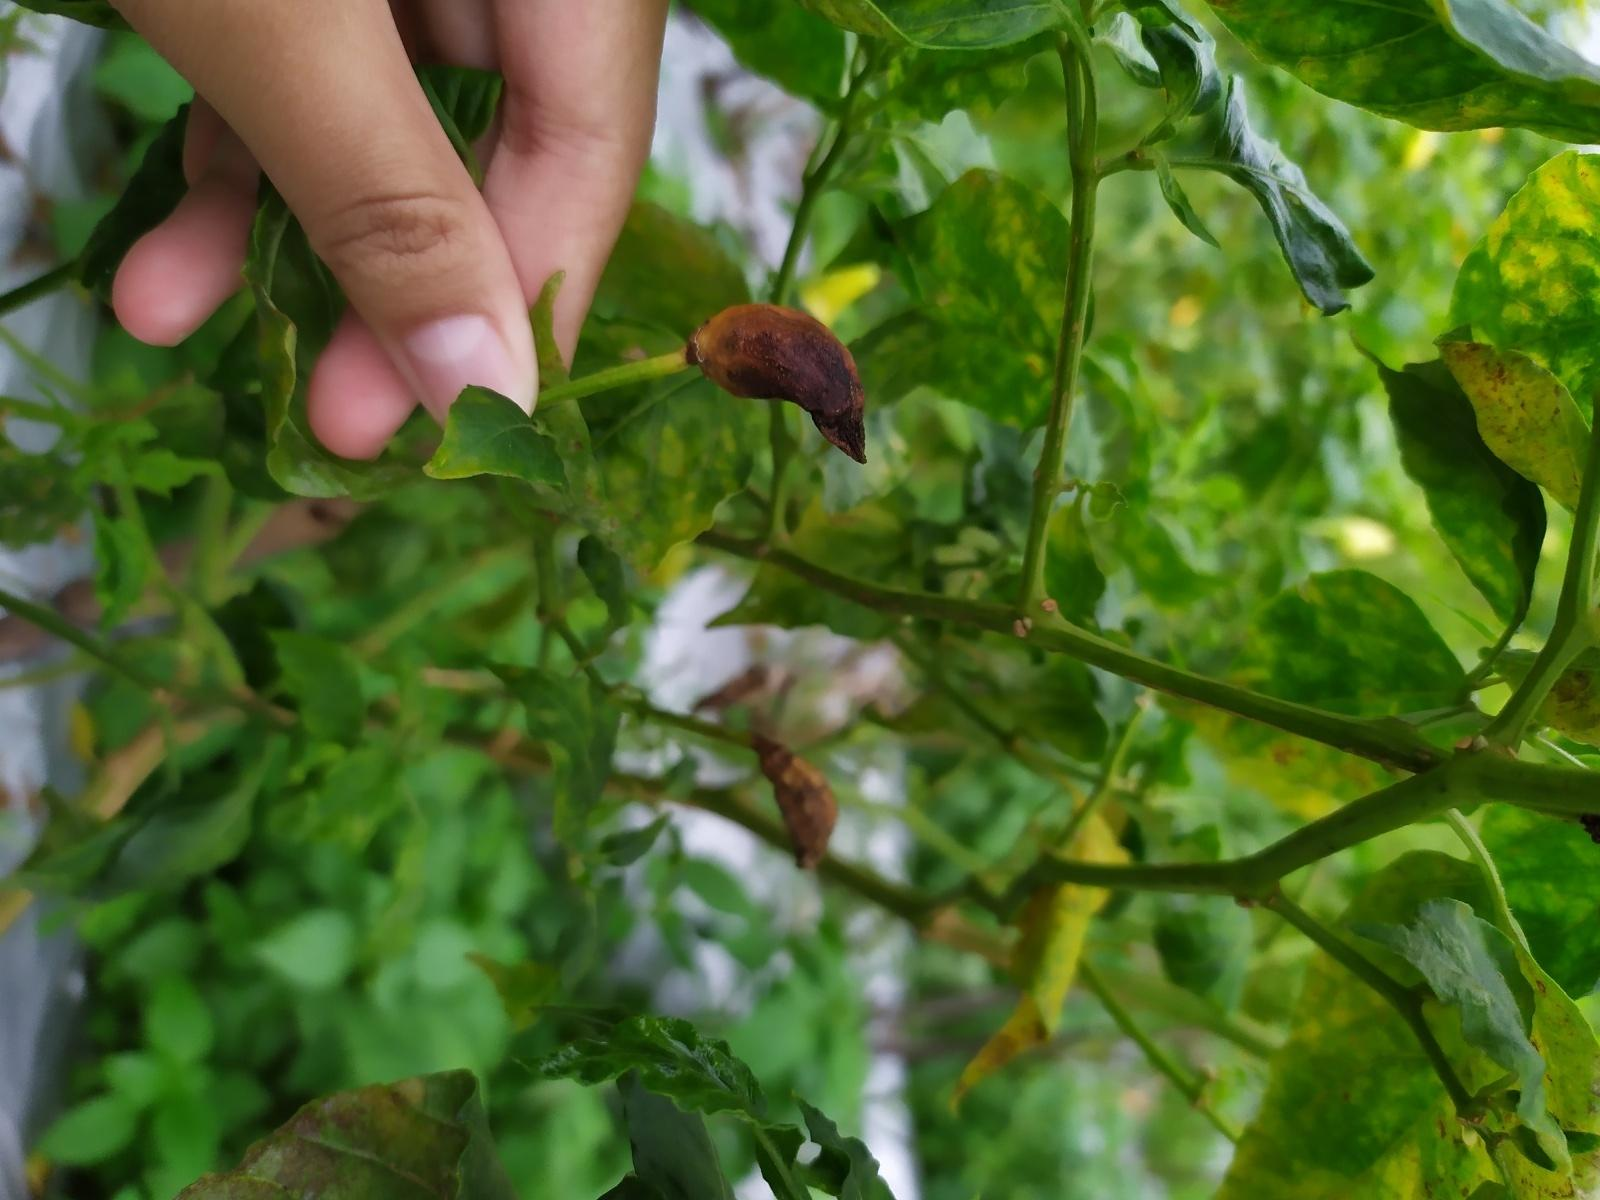antraknosa: (694, 300, 866, 466), (758, 745, 839, 871)
